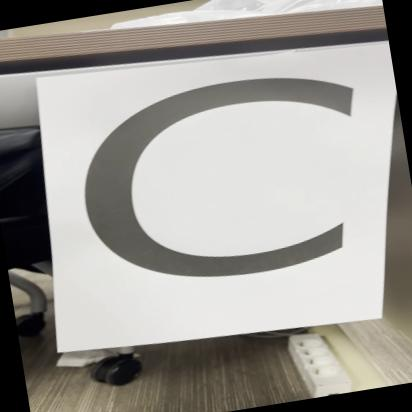seat: (26, 24, 392, 374)
